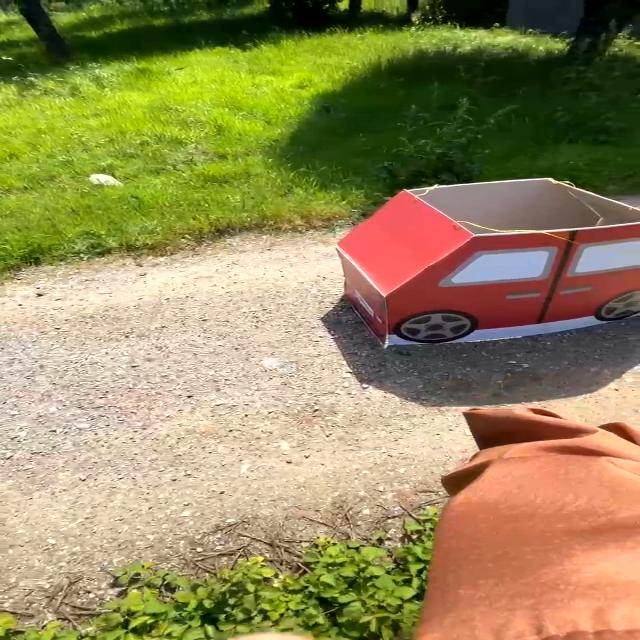red_car: (291, 178, 640, 366)
